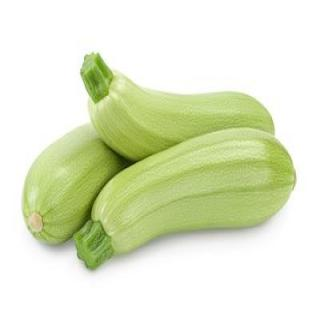Zucchini: (74, 129, 295, 268), (81, 54, 274, 160), (23, 124, 127, 243)
